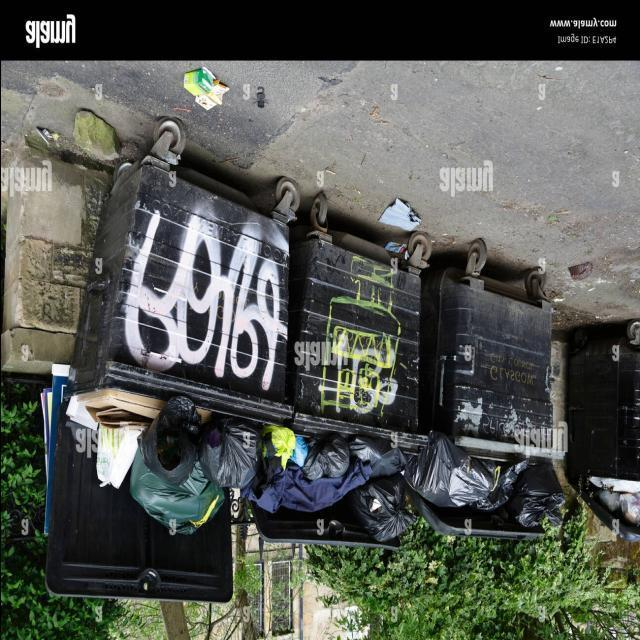Garbage: (66, 388, 562, 545)
Plastic_Bag: (129, 449, 224, 535), (404, 430, 495, 506), (140, 396, 200, 485), (198, 412, 261, 487), (349, 472, 415, 540), (505, 463, 564, 526), (470, 458, 528, 511), (95, 424, 140, 487), (348, 434, 405, 477), (301, 433, 349, 480), (512, 464, 561, 496), (261, 424, 295, 468)
